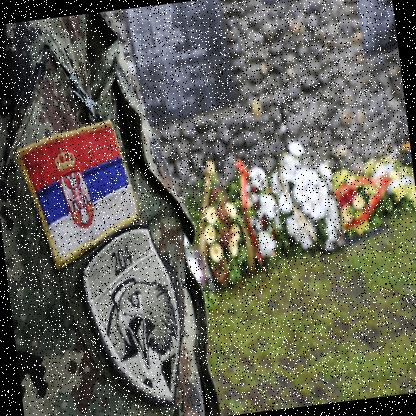rs: (15, 120, 145, 273)
